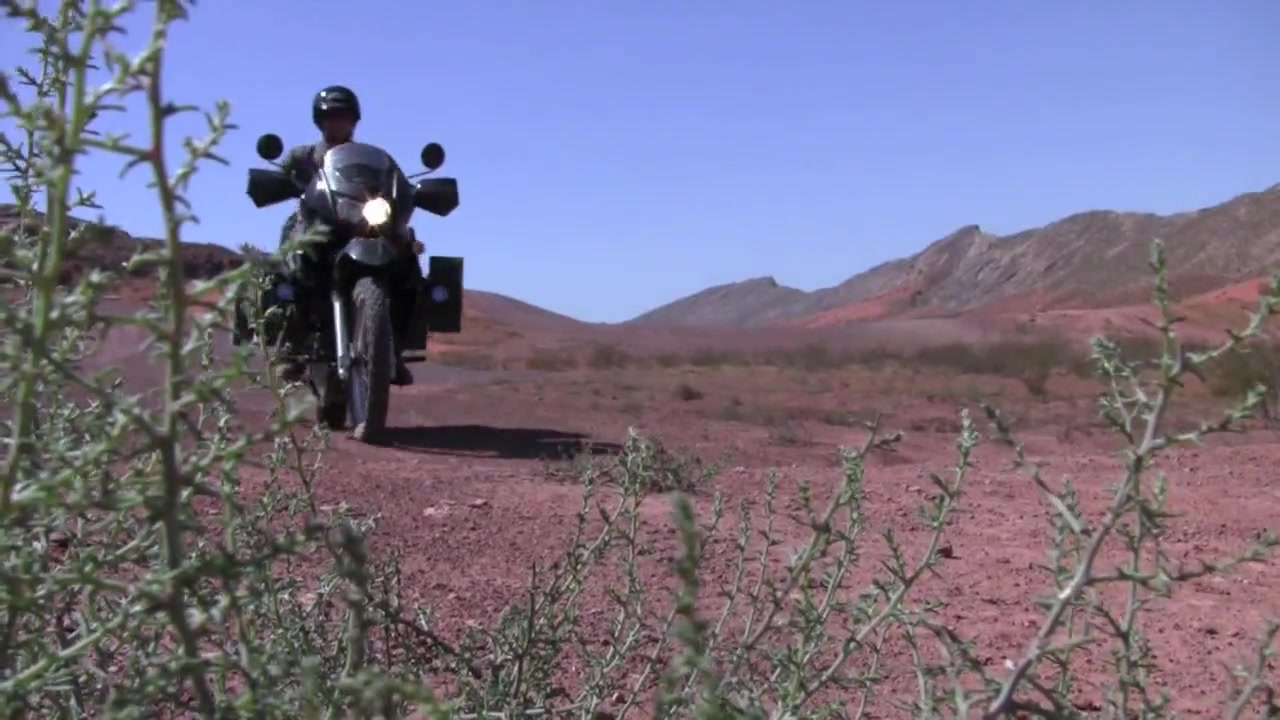motorbike: (231, 132, 468, 438)
